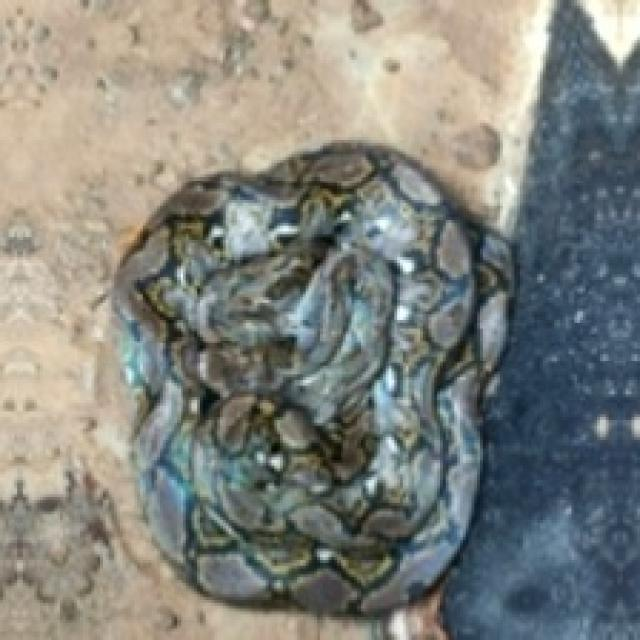reticulated python: (114, 143, 511, 611)
